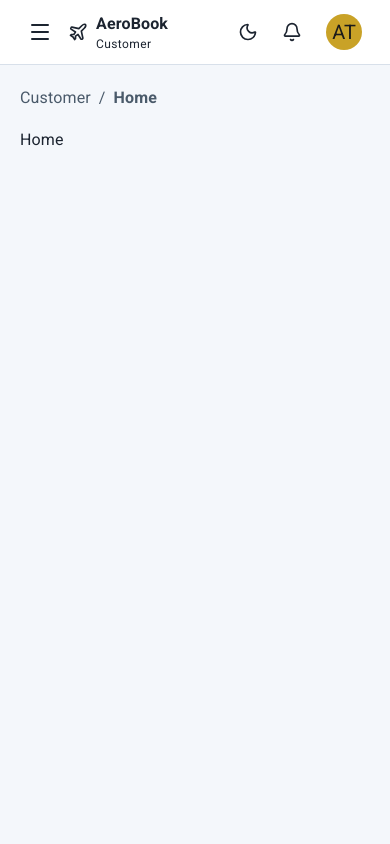
it: CustomerLayout › opens the mobile drawer navigation
This screenshot has width=390, height=844.
Click the button named "Open navigation menu" at [40, 32], box [20,12,60,52]
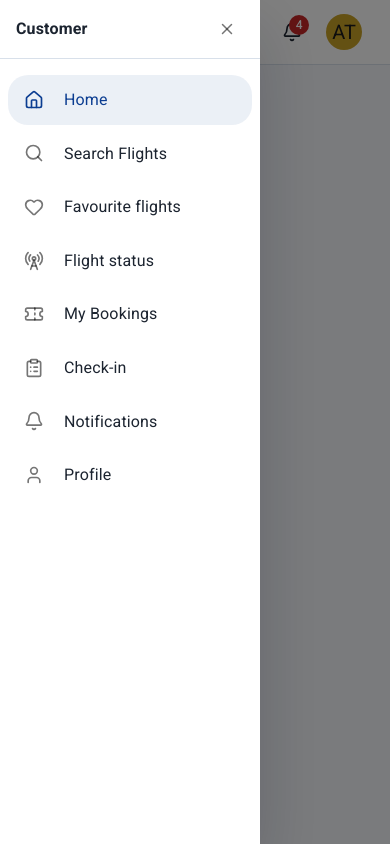
Result: the navigation bar named "Customer mobile" is shown at [0,67,260,512]
Result: the link "My Bookings" is shown at [24,304,158,324]
